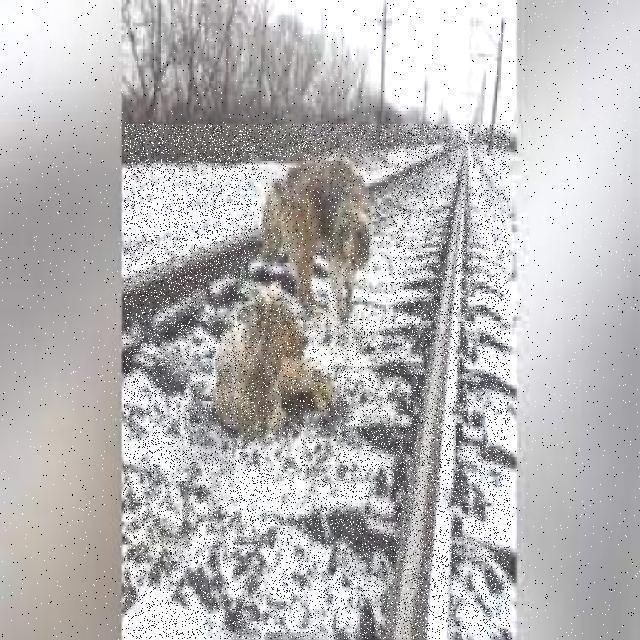rail: (125, 125, 511, 640)
